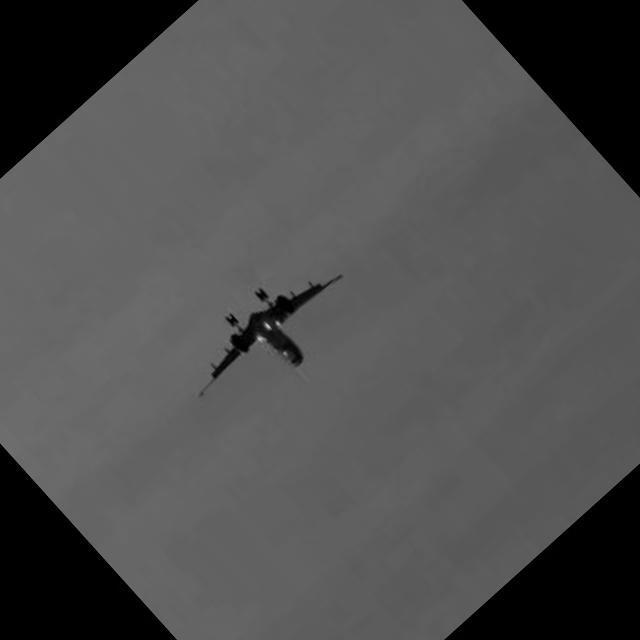aeroplane: (170, 240, 388, 452)
